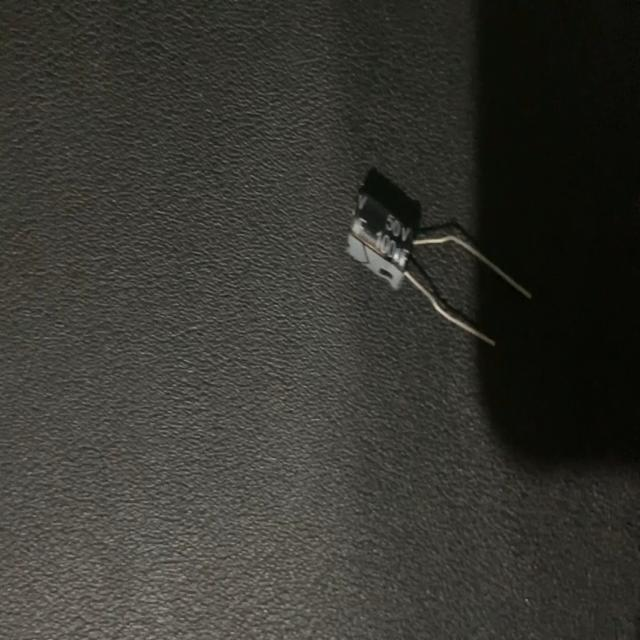capacitor: (343, 191, 530, 344)
